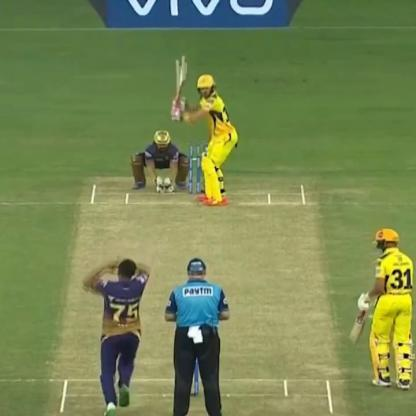bat: (166, 46, 192, 121)
pitch: (53, 169, 348, 415)
